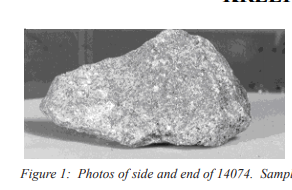Basalt: (32, 26, 264, 150)
